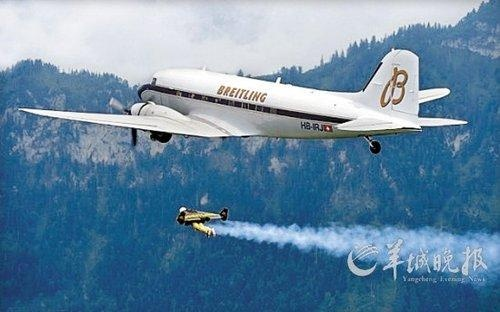airplane: (16, 49, 467, 145), (175, 205, 233, 235)
